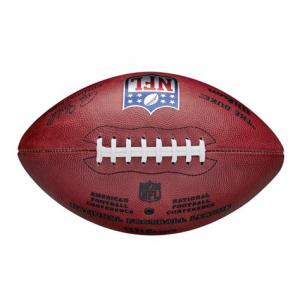Rugby: (17, 70, 285, 236)
